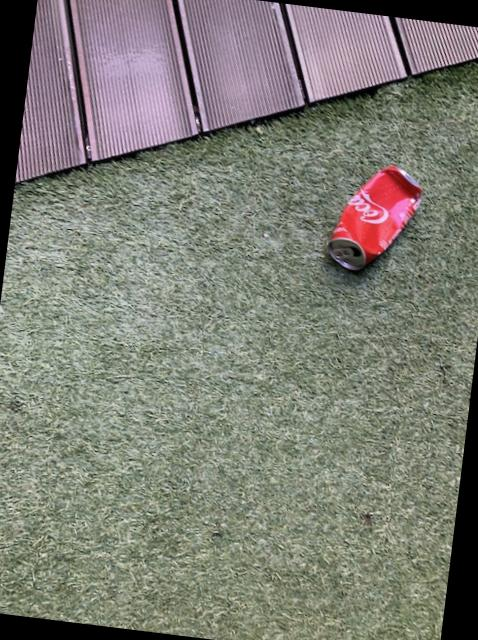metal: (329, 167, 423, 271)
